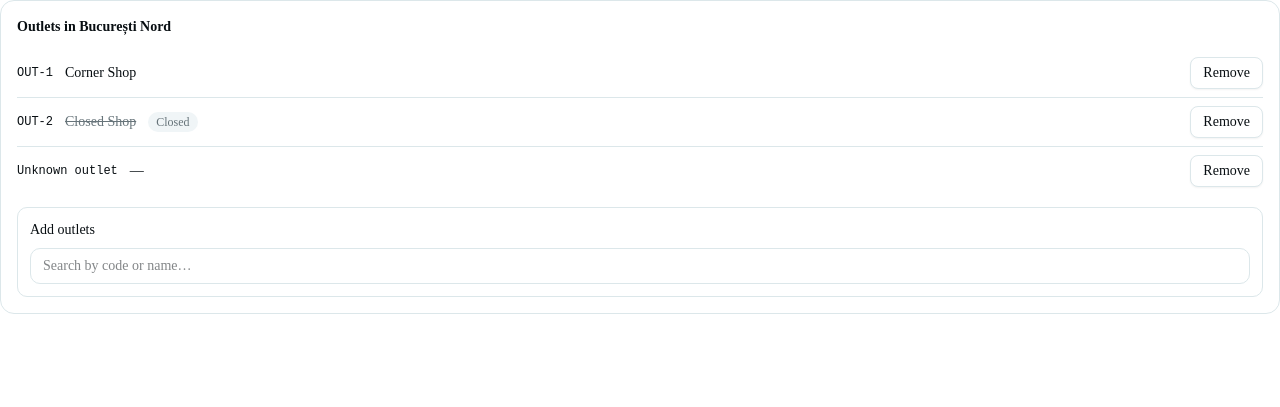
Scenario: <TerritoryOutlets> › shows an outlet already here, and will not offer to add it again
Step 1. Type "OUT" into the field labelled "Add outlets" → point(640, 266), box 30,248 -> 1250,284
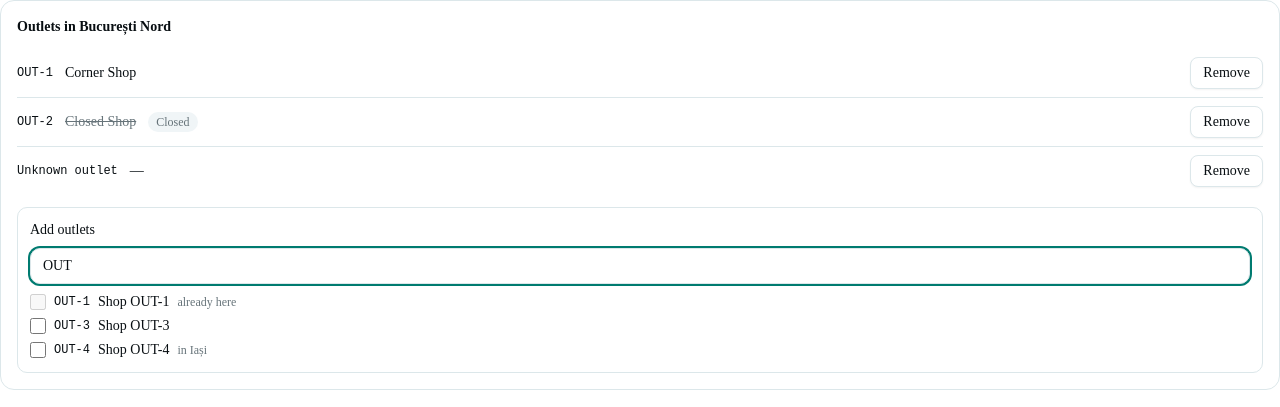
Expected: the checkbox labelled "OUT-1 Shop OUT-1 already here" is disabled, 30,294 -> 46,310
Expected: the label "OUT-1 Shop OUT-1 already here" is shown, 30,294 -> 236,310
